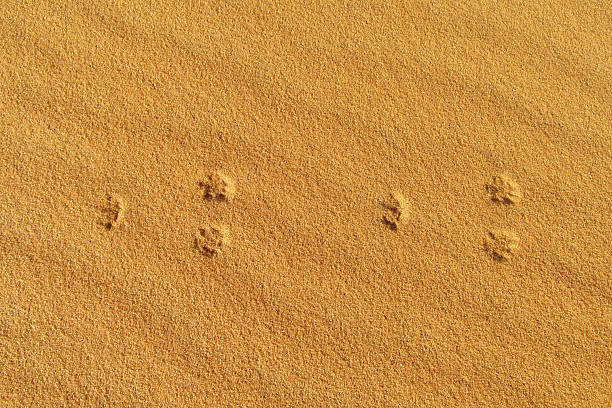animal_footprint: (485, 229, 519, 260), (199, 171, 235, 200), (487, 174, 522, 203), (195, 225, 228, 255), (381, 191, 407, 229), (101, 194, 125, 229)
